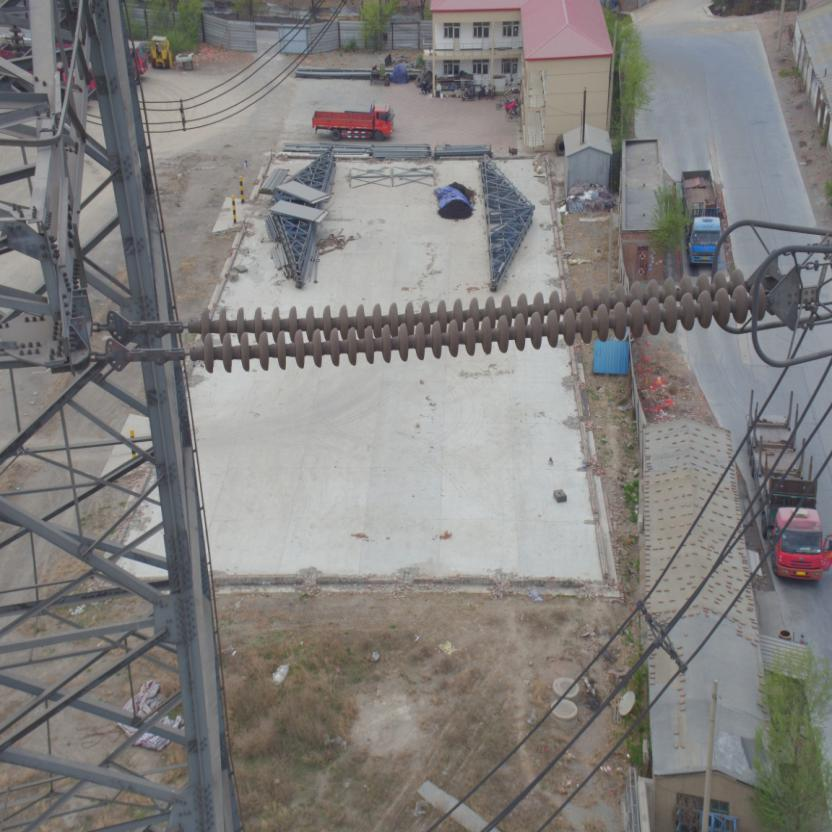insulator: (161, 262, 780, 376)
